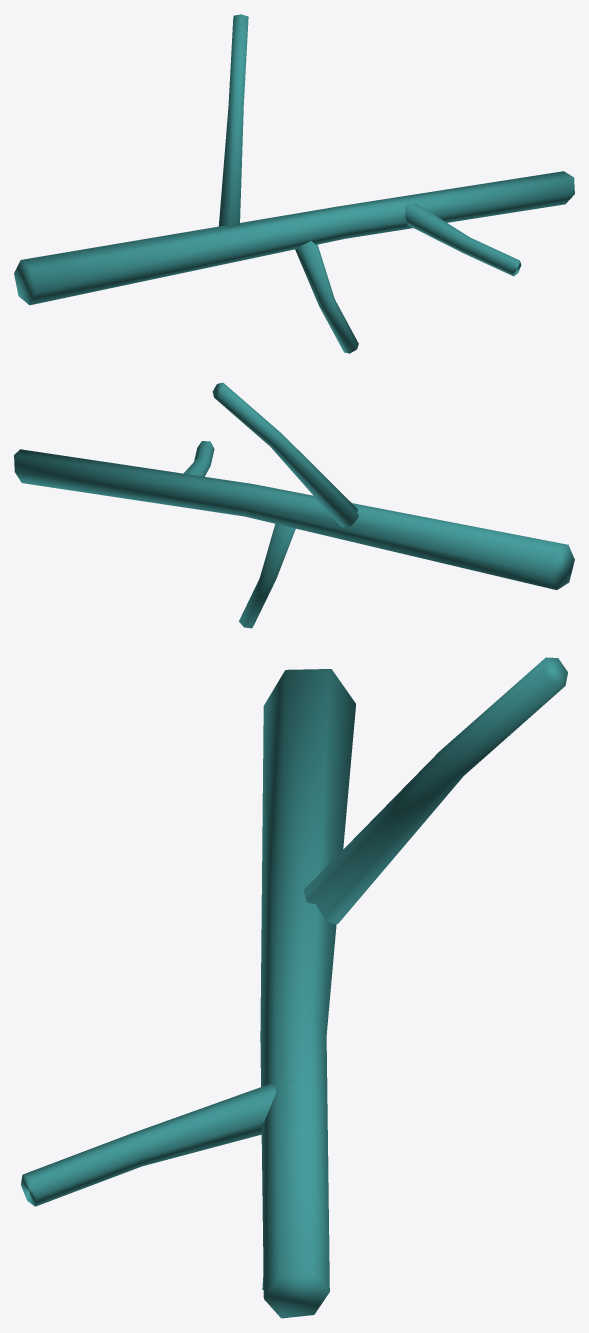
Rendered from brunch_3.FBX.
3 renders of one model, top to bottom at view 1: azimuth 30°, elevation 25°; view 2: azimuth 150°, elevation 25°; view 3: azimuth 270°, elevation 25°, orthographic. The views are drawn at different scales.
Visible parts, largest first — view 1: brunch_3; view 2: brunch_3; view 3: brunch_3.
Part boxes in pixels (box(x1,y1,x2,y2)): brunch_3: box(14, 14, 574, 353); brunch_3: box(14, 382, 574, 628); brunch_3: box(21, 657, 567, 1318).
Bounding box in the file's own units: 1955 × 1031 × 854.
